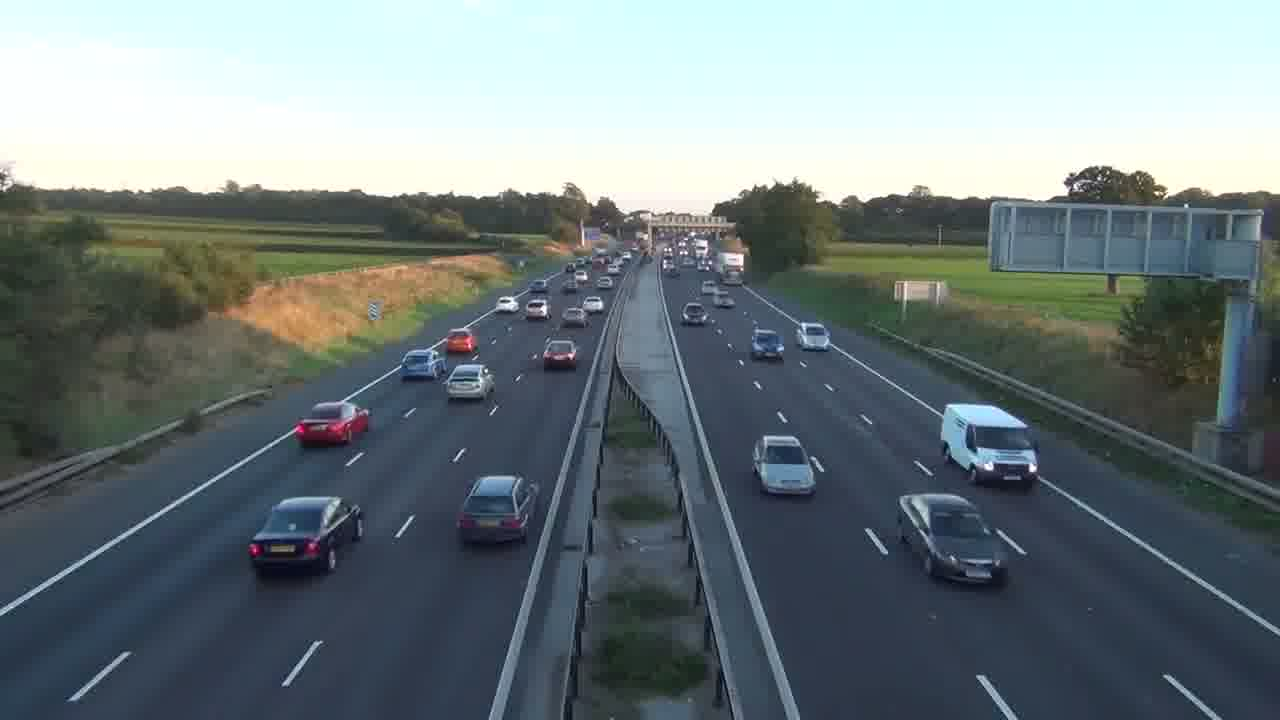car: (896, 491, 1008, 585), (247, 495, 365, 576), (456, 474, 538, 546), (752, 434, 820, 496), (293, 400, 369, 448), (445, 363, 495, 402), (399, 348, 437, 382), (543, 337, 578, 371), (750, 328, 785, 362), (681, 302, 709, 327)
truck: (941, 402, 1040, 488)
